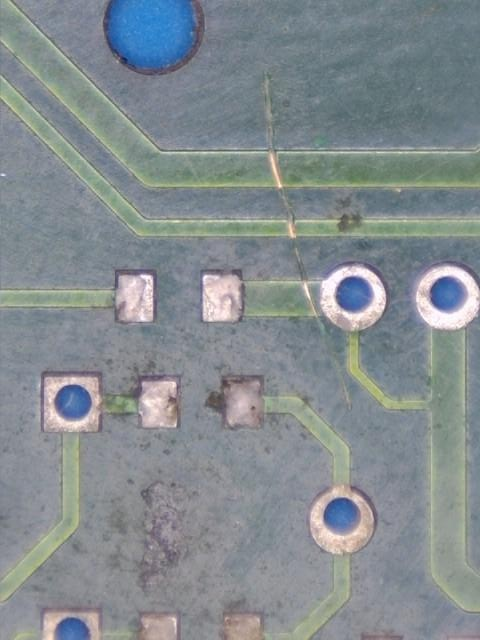pcb_defect: (264, 72, 324, 330), (334, 356, 351, 411)
